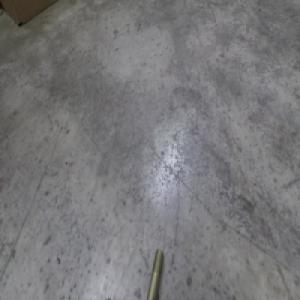Bolt: (146, 249, 164, 300)
